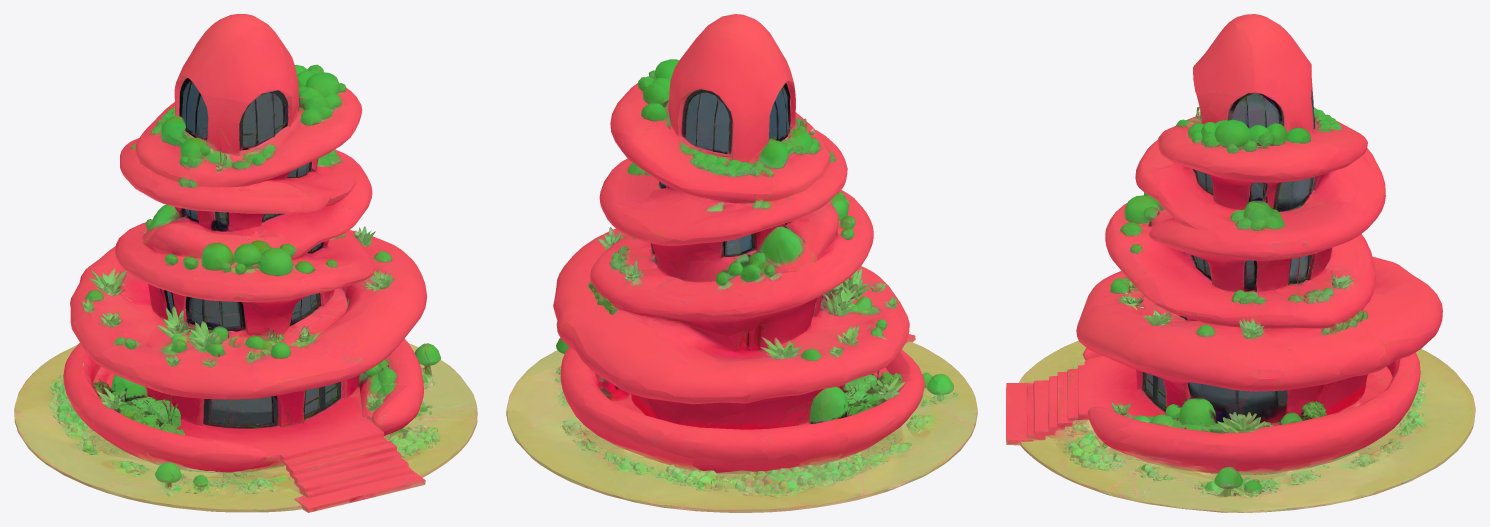
File: bld-bio-pod-tower-v2.glb
The picture shows the model from 3 angles, left to right: view 1: azimuth 30°, elevation 25°; view 2: azimuth 150°, elevation 25°; view 3: azimuth 270°, elevation 25°; orthographic projection.
Visible parts, largest first — view 1: Mesh_0; view 2: Mesh_0; view 3: Mesh_0.
Boxes of the visible parts, x1,y1,x2,y2 form: Mesh_0: (14,14,477,512); Mesh_0: (506,14,977,512); Mesh_0: (1006,14,1475,512).
Bounding box in the file's own units: 1.9 × 1.77 × 1.9.
1 material, 1 textured.
